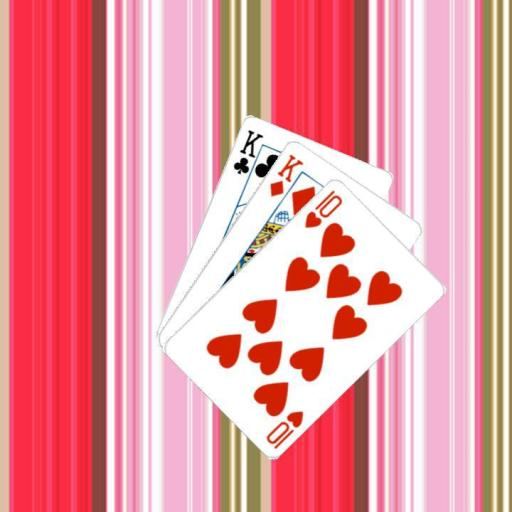10H: (262, 407, 305, 450), (302, 186, 344, 230)
KC: (230, 126, 266, 184)
KD: (266, 151, 305, 198)
